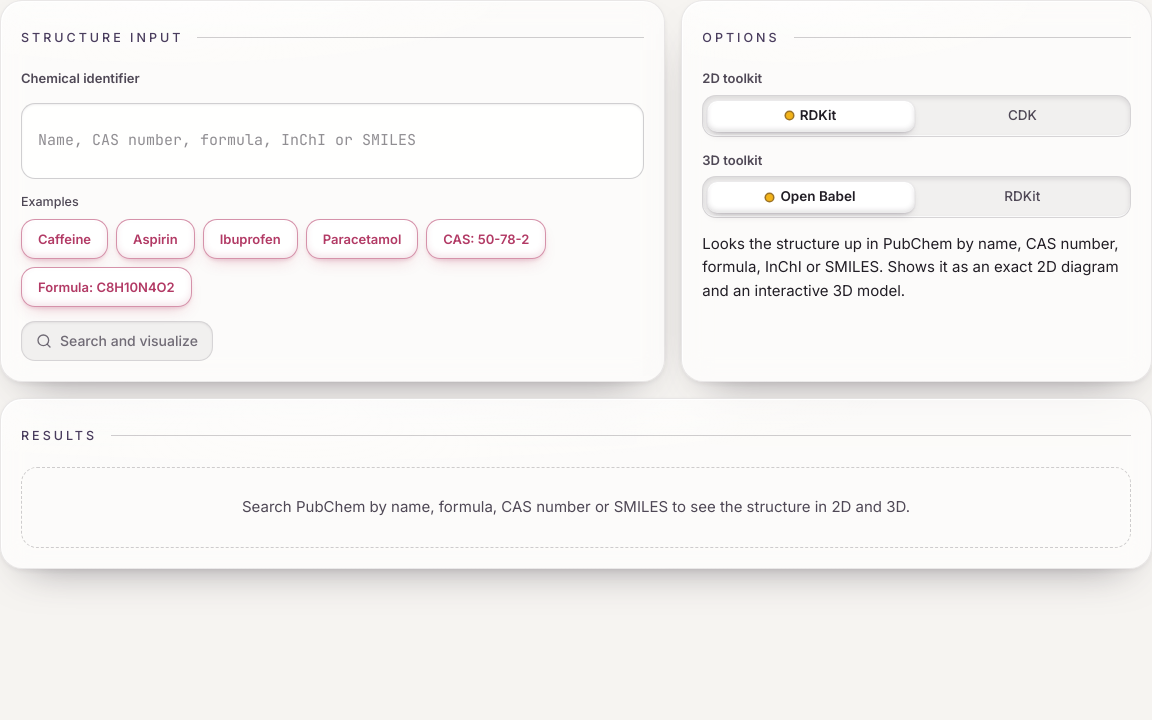
StructureVisualizerView (bento) › says so when PubChem has no structure
Type "nothing" into the field labelled "Chemical identifier". click: (333, 140)
box: [21,102,644,178]
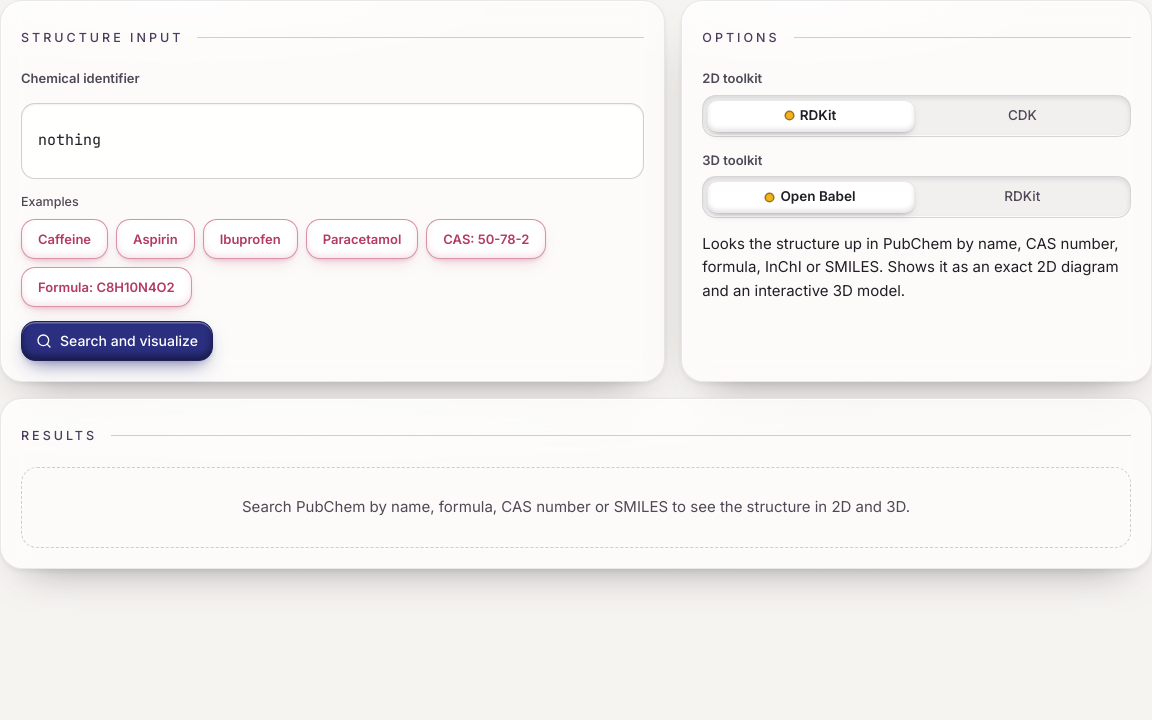
Click the button "Search and visualize". click: (117, 341)
box: [21,321,213,361]
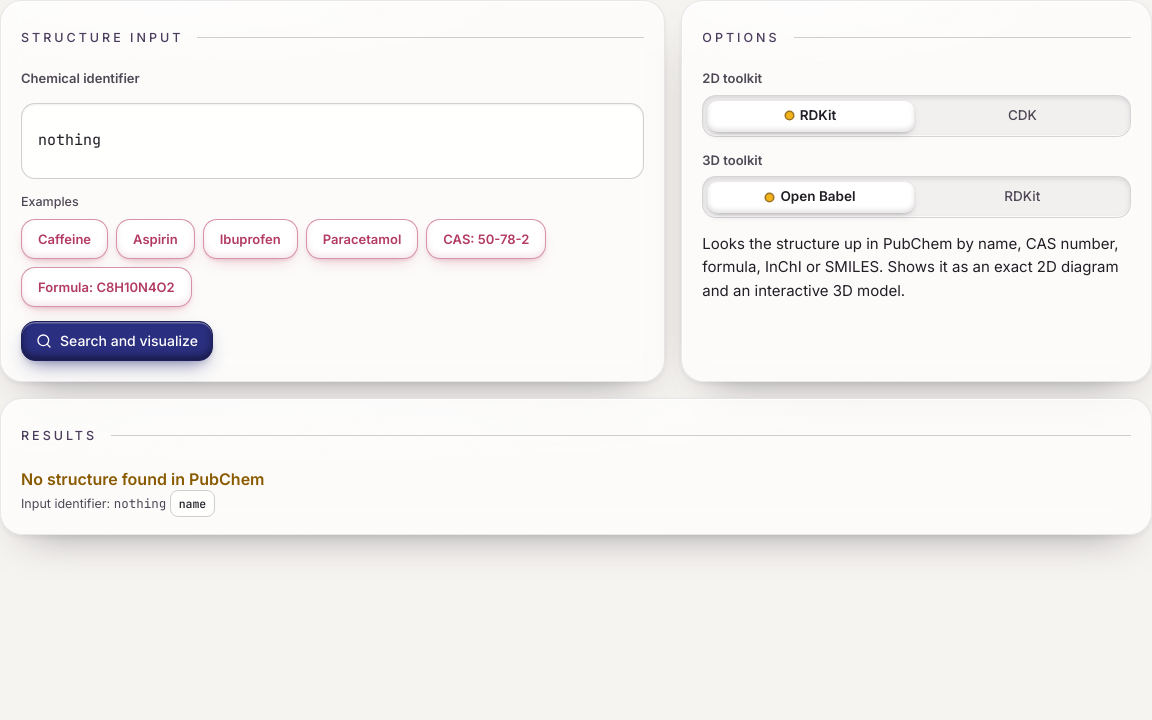
Now the text "No structure found in PubChem" is shown, box [21,469,264,489]
